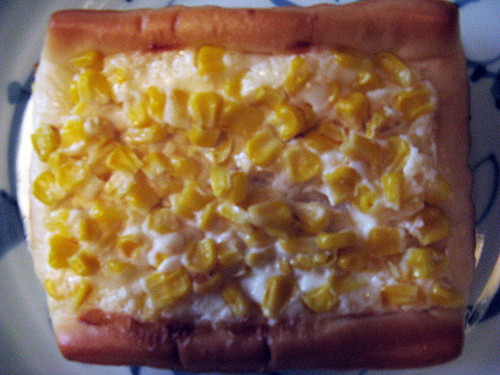corn: (27, 44, 467, 321)
